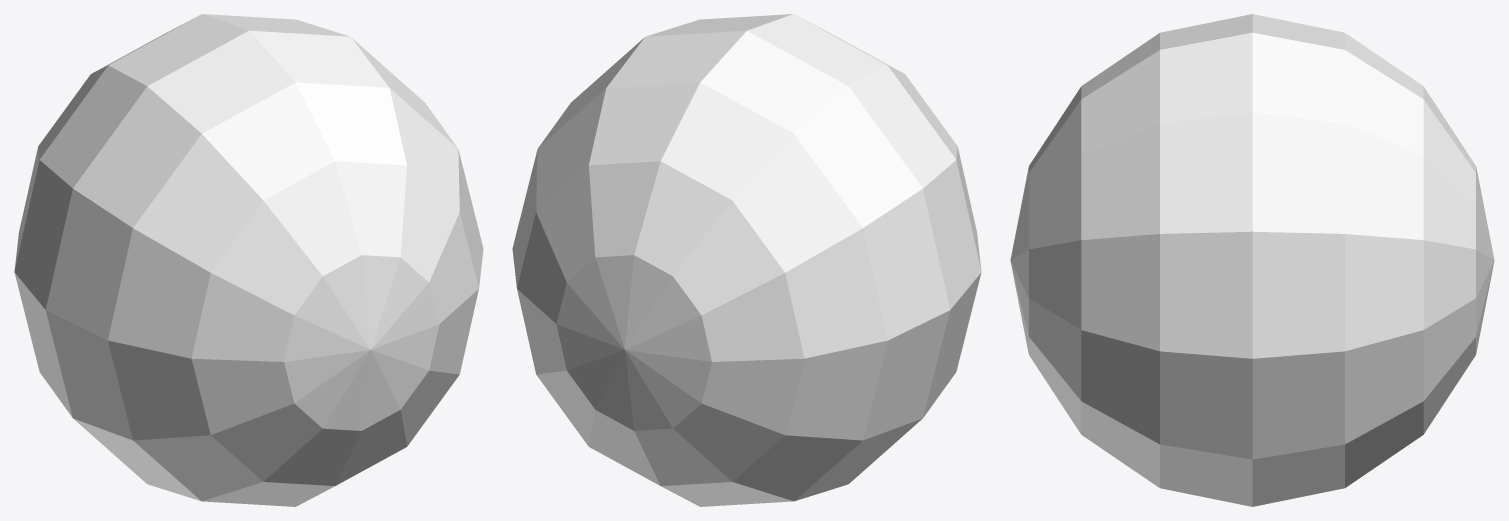
File: head_round.glb
3 views of the same model, side by side, from view 1: azimuth 30°, elevation 25°; view 2: azimuth 150°, elevation 25°; view 3: azimuth 270°, elevation 25° (orthographic).
Visible parts, largest first — view 1: head_round; view 2: head_round; view 3: head_round.
Boxes of the visible parts, x1,y1,x2,y2 form: head_round: (14, 14, 483, 506); head_round: (512, 14, 981, 506); head_round: (1010, 14, 1494, 506).
Bounding box in the file's own units: 0.5 × 0.54 × 0.52.
1 material, 1 textured.
